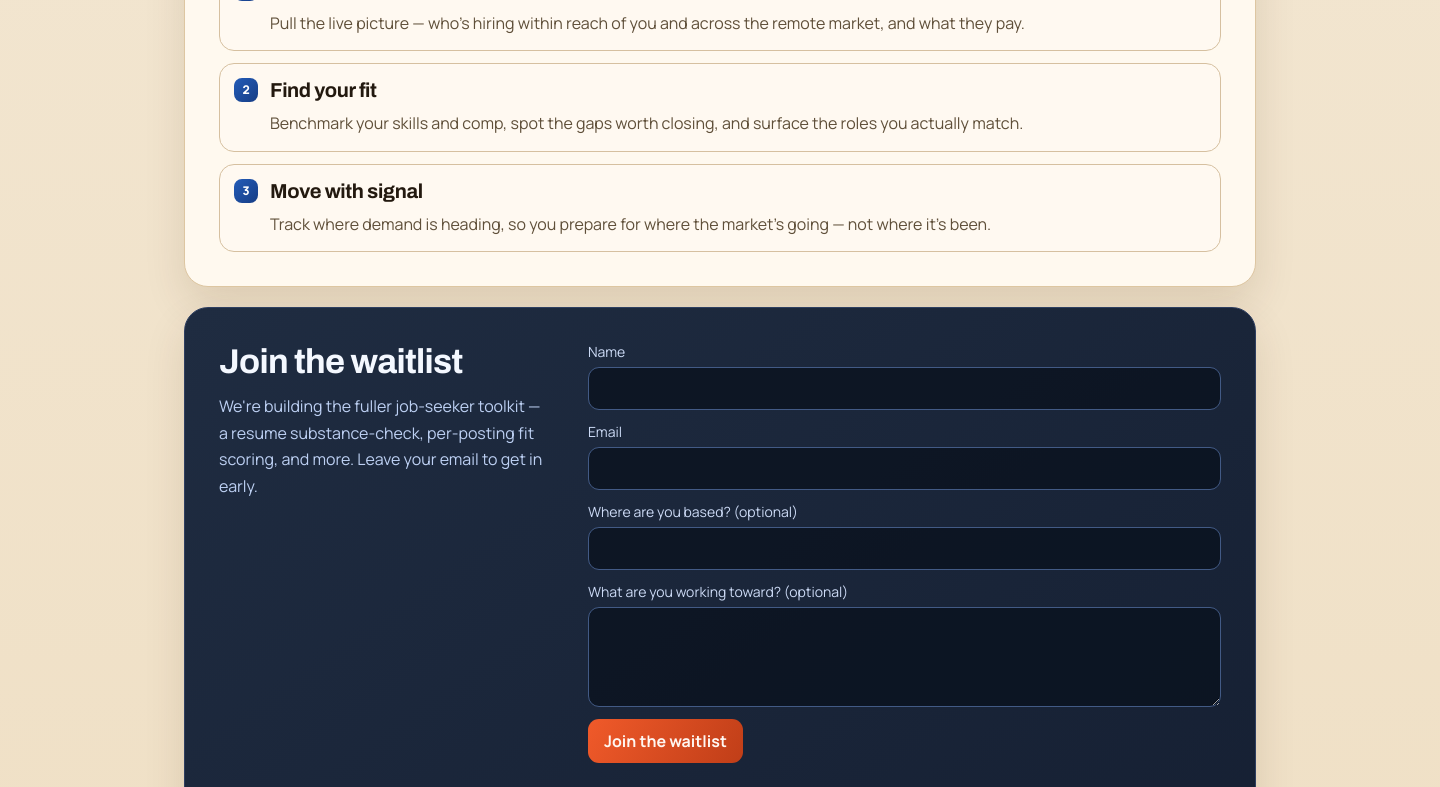
App › lead form submission › shows error message on submission failure
The width and height of the screenshot is (1440, 787).
(page scrolled)
Type "Jane" into the field labelled "Name".
click(904, 389); type("Jane")  # box [588,367,1221,410]
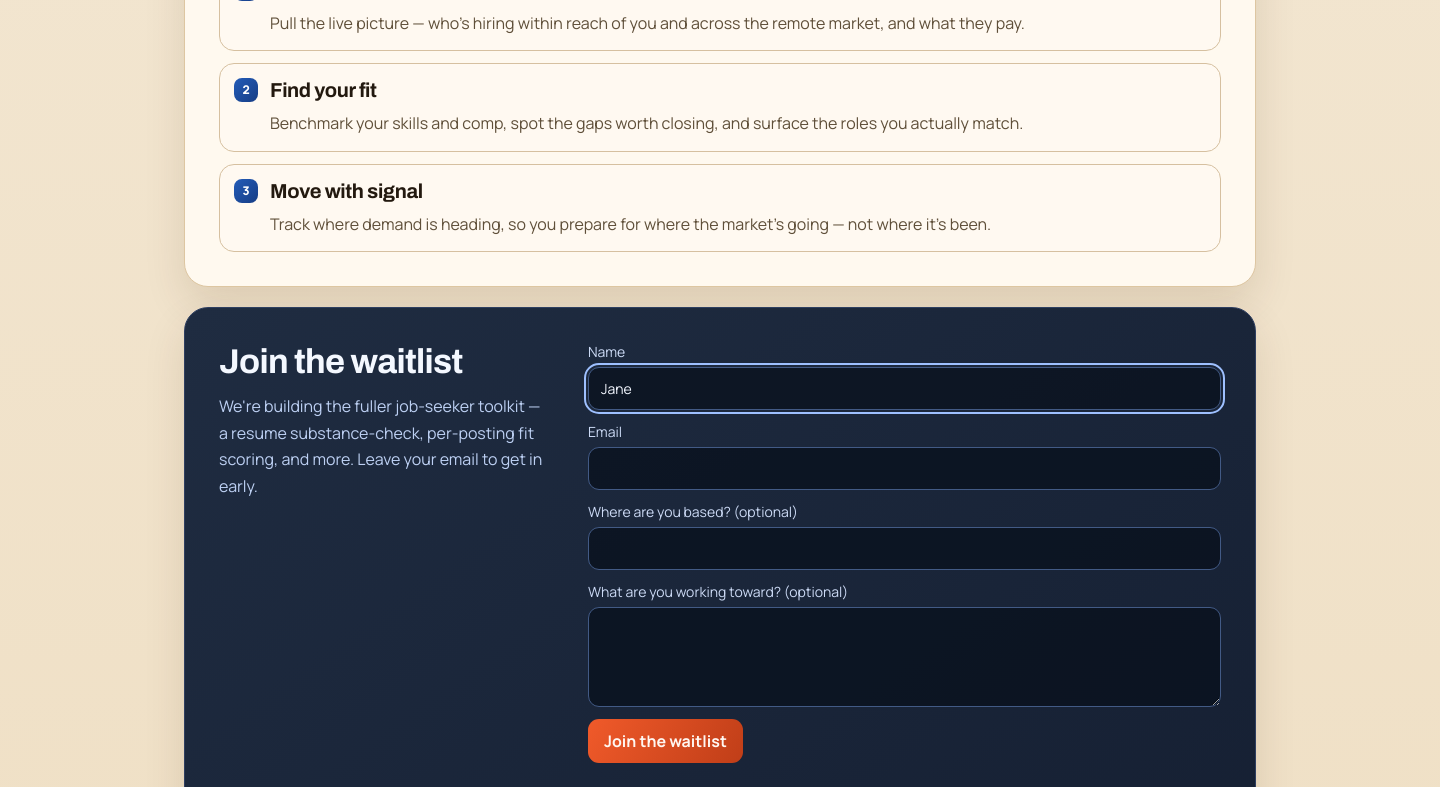
Type "jane@co.com" into the field labelled "Email".
click(904, 469); type("jane@co.com")  # box [588,447,1221,490]
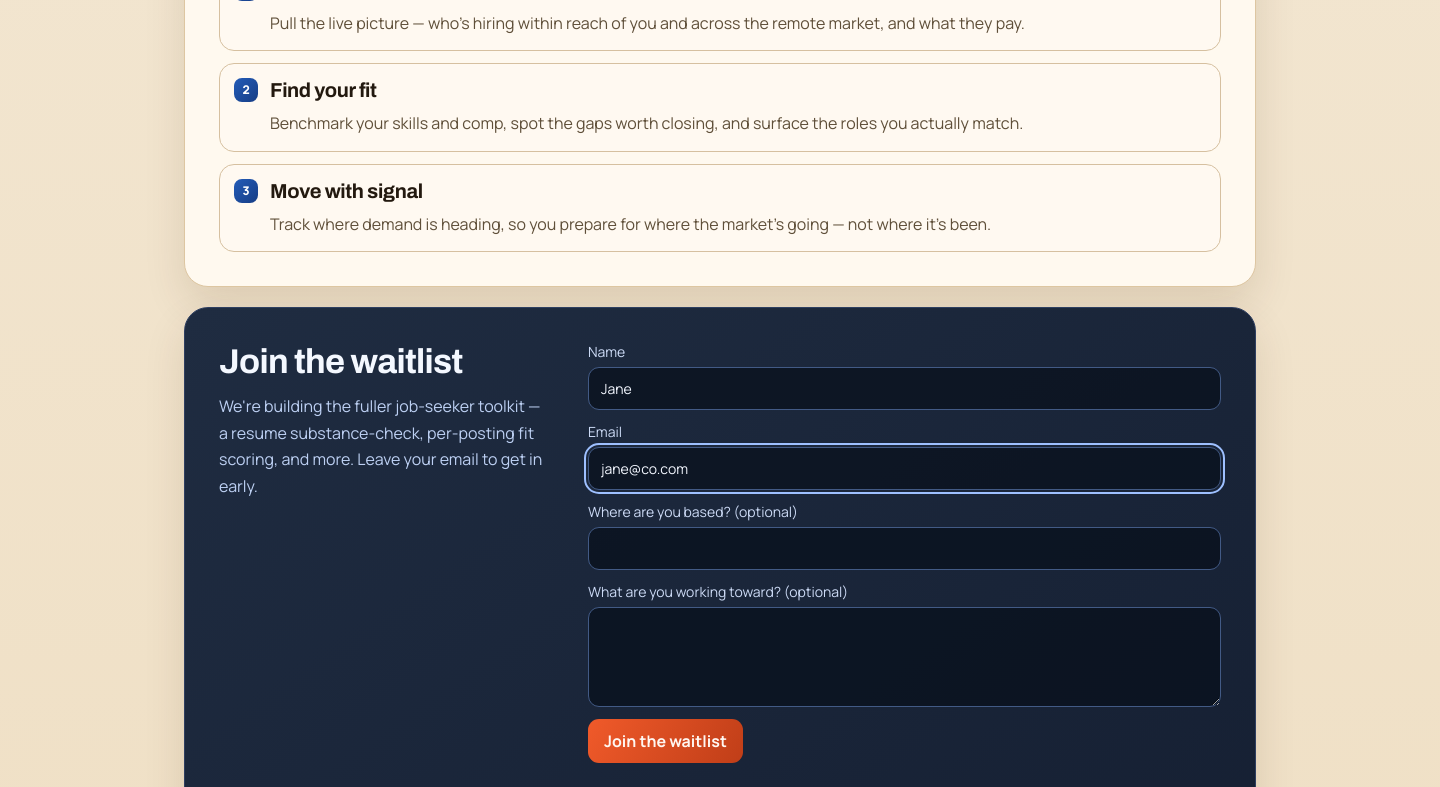
Click the button "Join the waitlist".
click(665, 741)  # box [588,719,743,763]
(page scrolled)
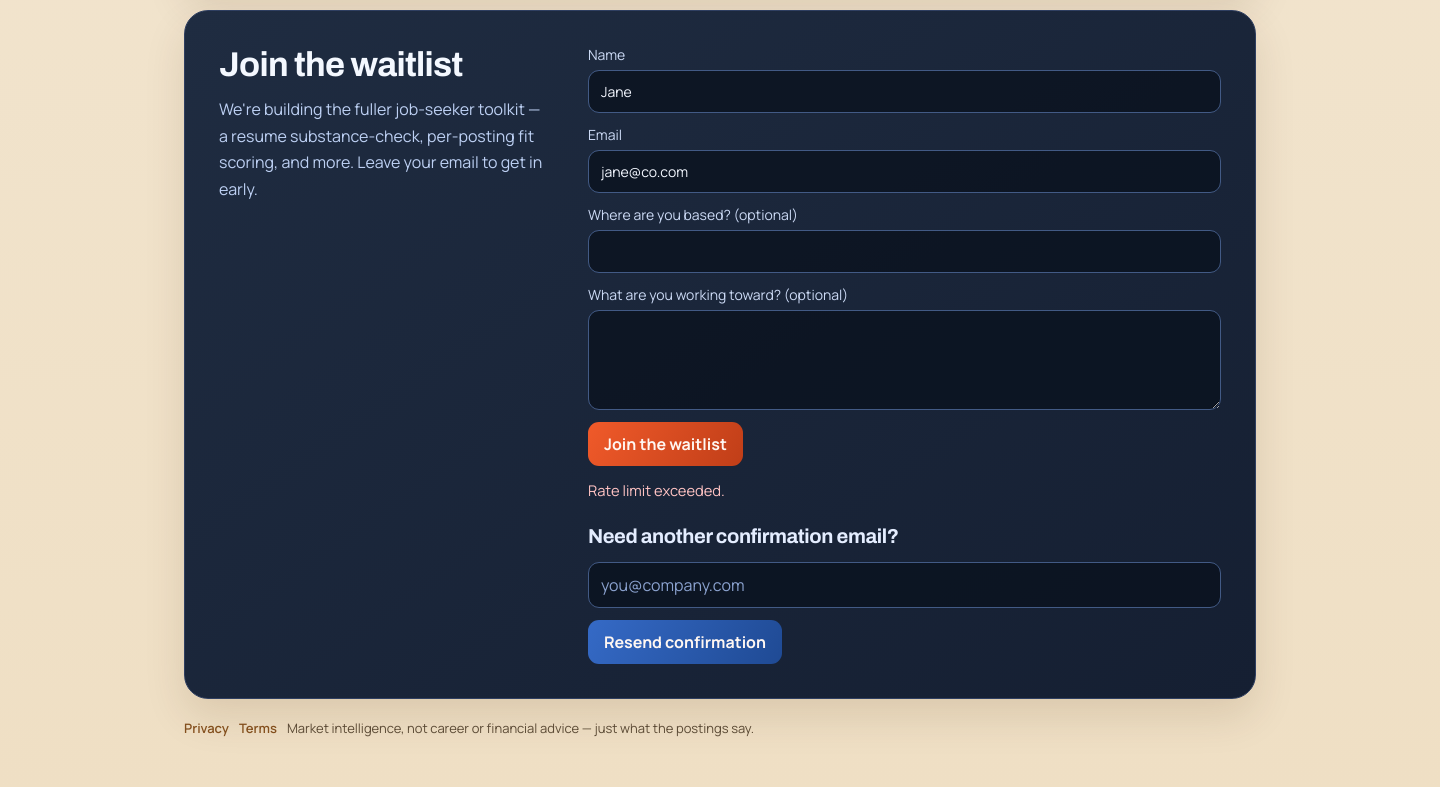
Expected: the text "Rate limit exceeded." is shown, [588,480,725,500]
